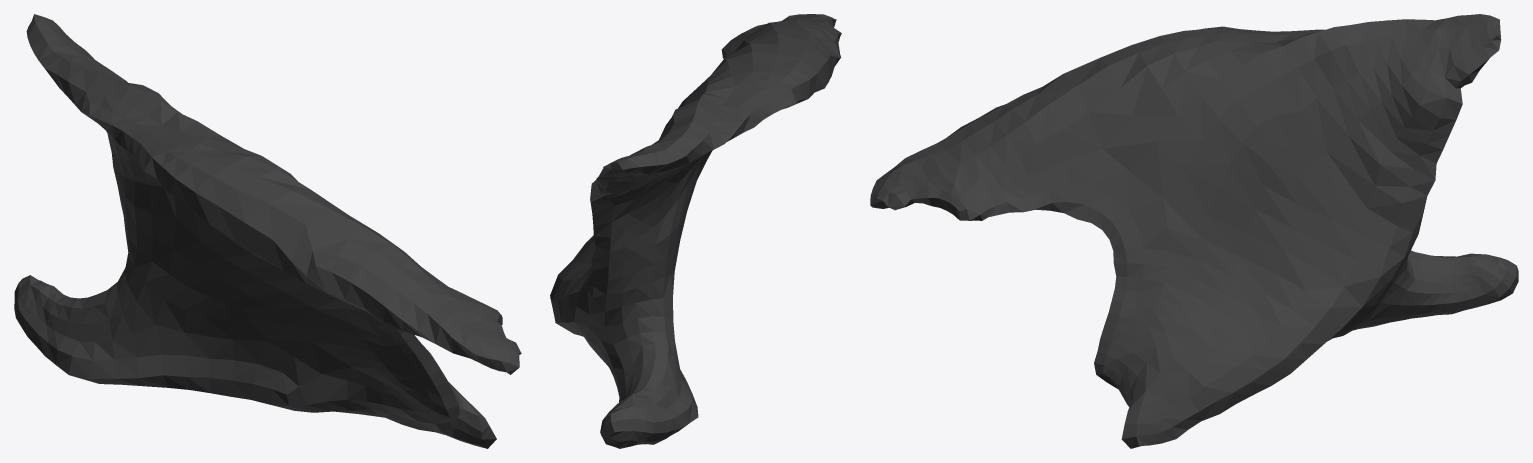
Rendered from Pterygoid_L.glb.
The picture shows the model from 3 angles, left to right: view 1: azimuth 30°, elevation 25°; view 2: azimuth 150°, elevation 25°; view 3: azimuth 270°, elevation 25°; orthographic projection. The views are drawn at different scales.
Parts seen in each view (by area): view 1: Pterygoid_L; view 2: Pterygoid_L; view 3: Pterygoid_L.
Part boxes in pixels (<box>): Pterygoid_L: <box>14,14,521,448</box>; Pterygoid_L: <box>550,14,841,448</box>; Pterygoid_L: <box>870,14,1518,448</box>.
Size of the model in its own units: 65.01 by 72.85 by 134.
1 material, 1 textured.
